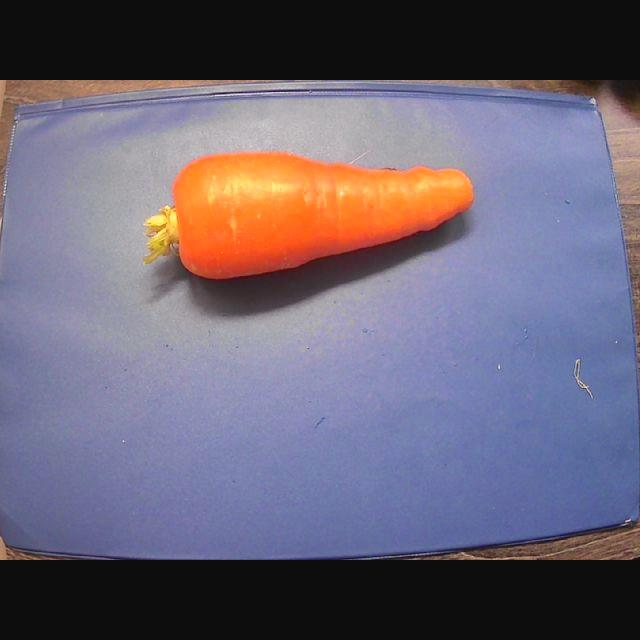zanahoria: (145, 151, 473, 279)
